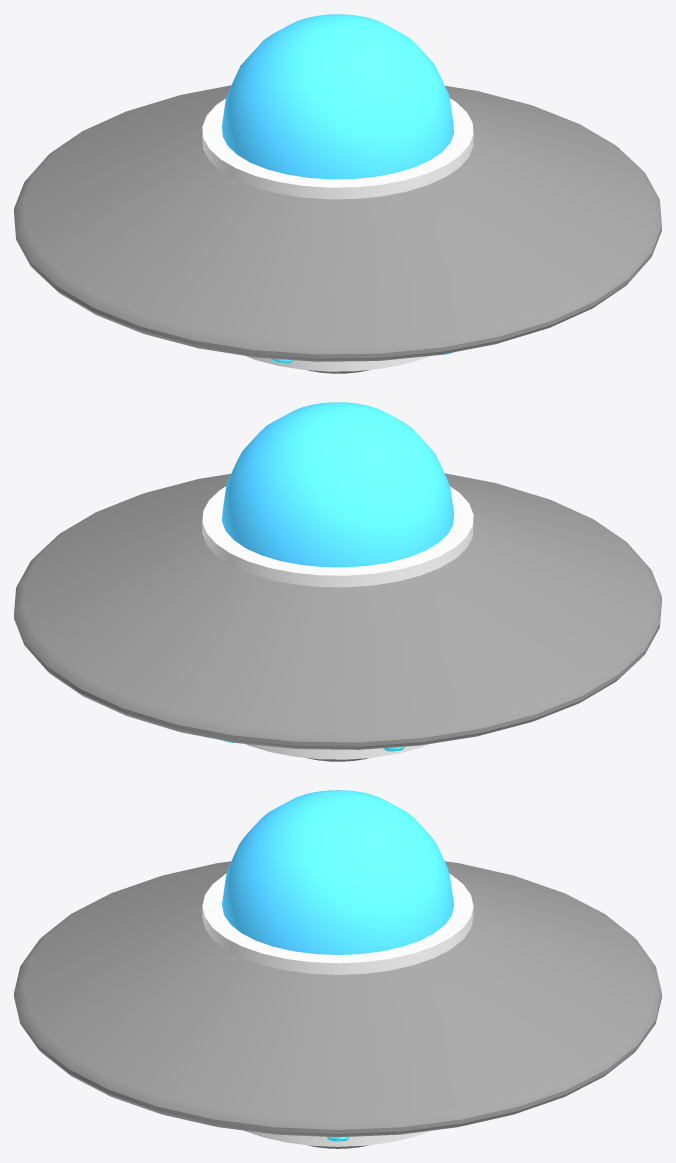
Rendered from flying_saucer.gltf.
3 renders of one model, top to bottom at view 1: azimuth 30°, elevation 25°; view 2: azimuth 150°, elevation 25°; view 3: azimuth 270°, elevation 25°, orthographic.
Parts seen in each view (by area): view 1: Cylinder.458; view 2: Cylinder.458; view 3: Cylinder.458.
Part boxes in pixels (left/top/right/bottom): Cylinder.458: left=14, top=14, right=661, bottom=373; Cylinder.458: left=14, top=402, right=661, bottom=761; Cylinder.458: left=14, top=790, right=661, bottom=1148.
Size of the model in its own units: 2.37 by 1.3 by 2.37.
Materials: 1 (1 with a texture image).
